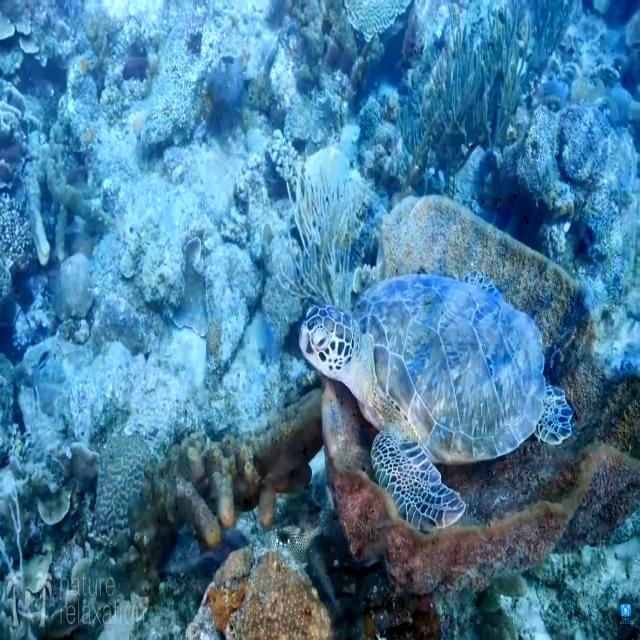Sea turtle: (295, 267, 572, 538)
